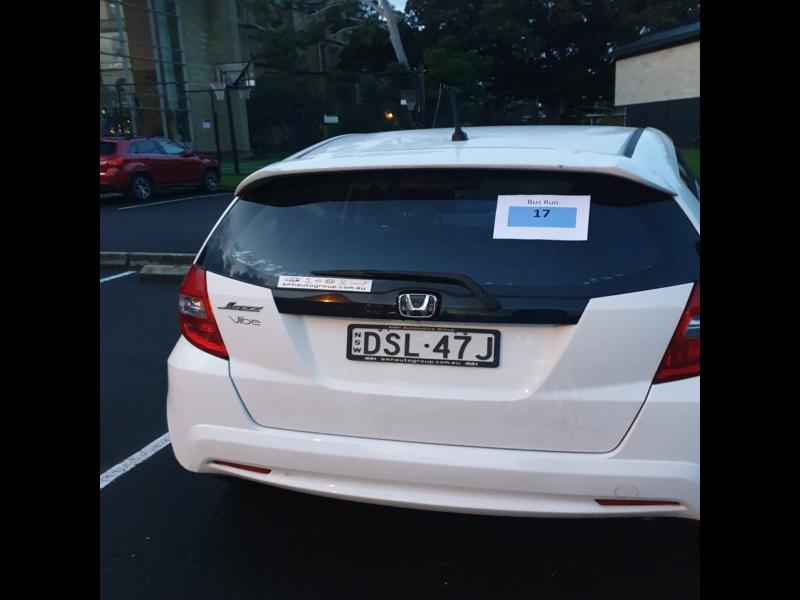BusRun: (508, 205, 577, 230)
PlateNo: (350, 325, 498, 367)
